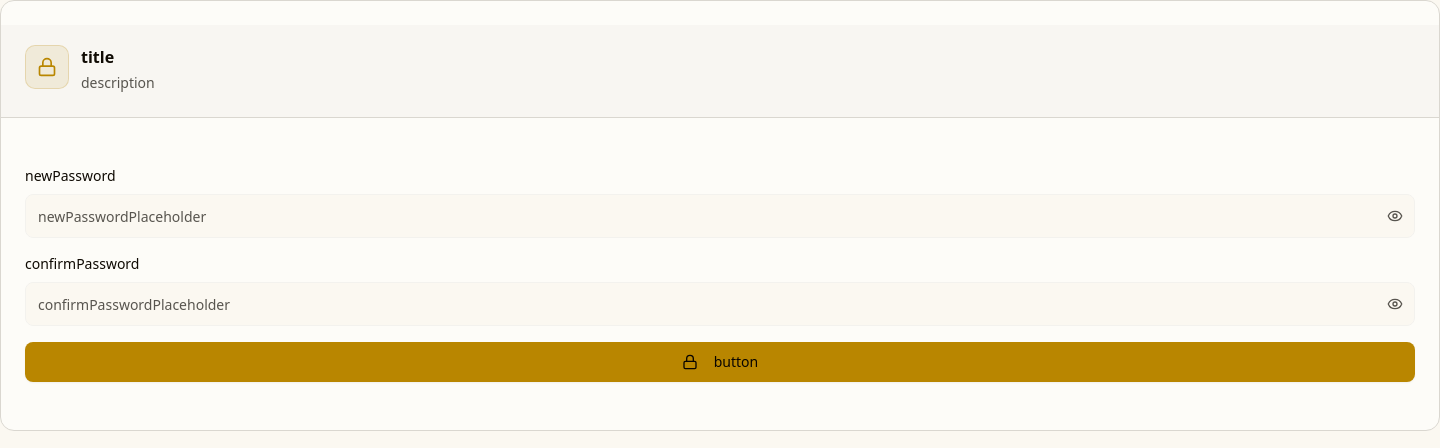
Scenario: PasswordChangeCard › shows success state after password change
Type "Newpass123" into the password field labelled "newPassword". click: point(720, 216)
box: [25,194,1415,238]
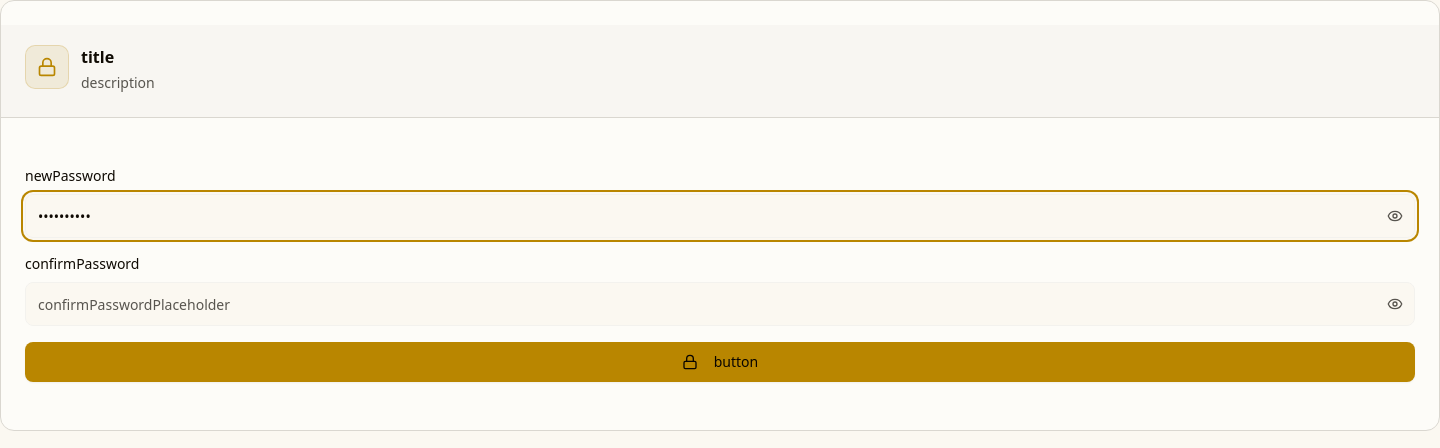
Type "Newpass123" into the password field labelled "confirmPassword". click: point(720, 304)
box: [25,282,1415,326]
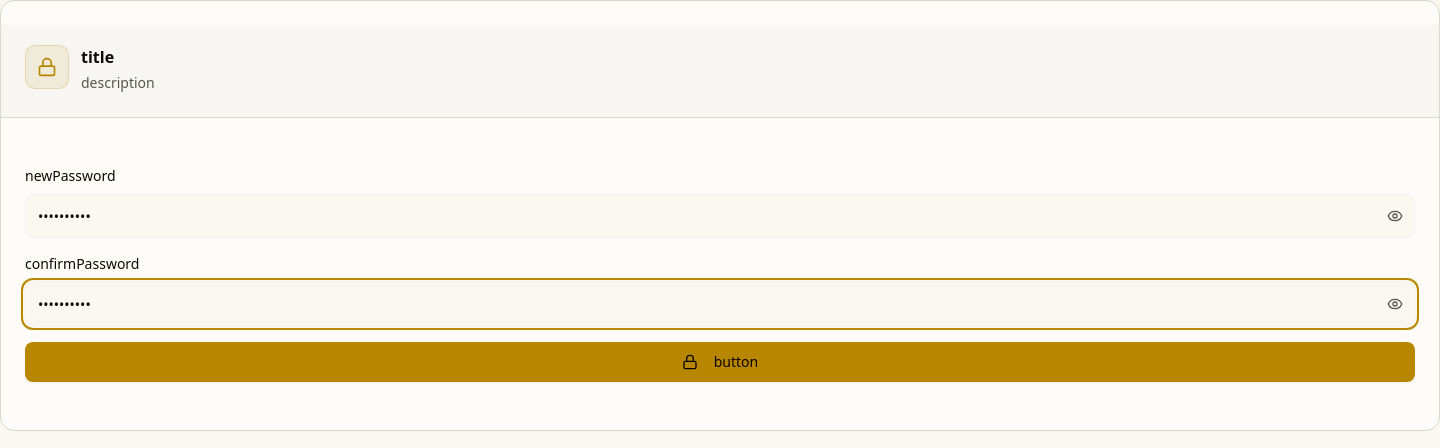
Click the button "button". click: point(720, 362)
box: [25,342,1415,382]
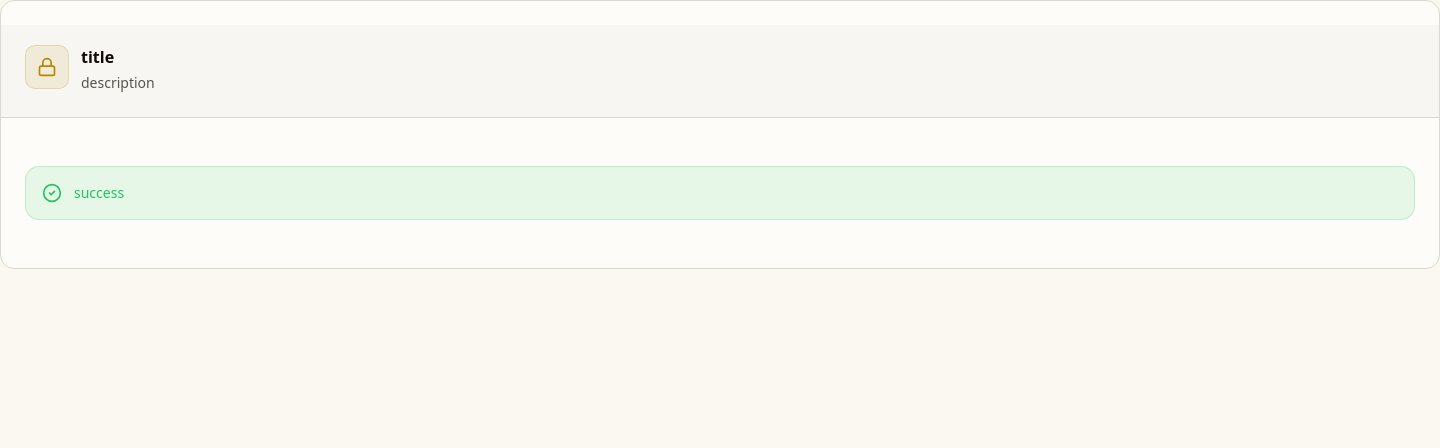
Expected: the text "success" is shown, [74,183,124,203]
